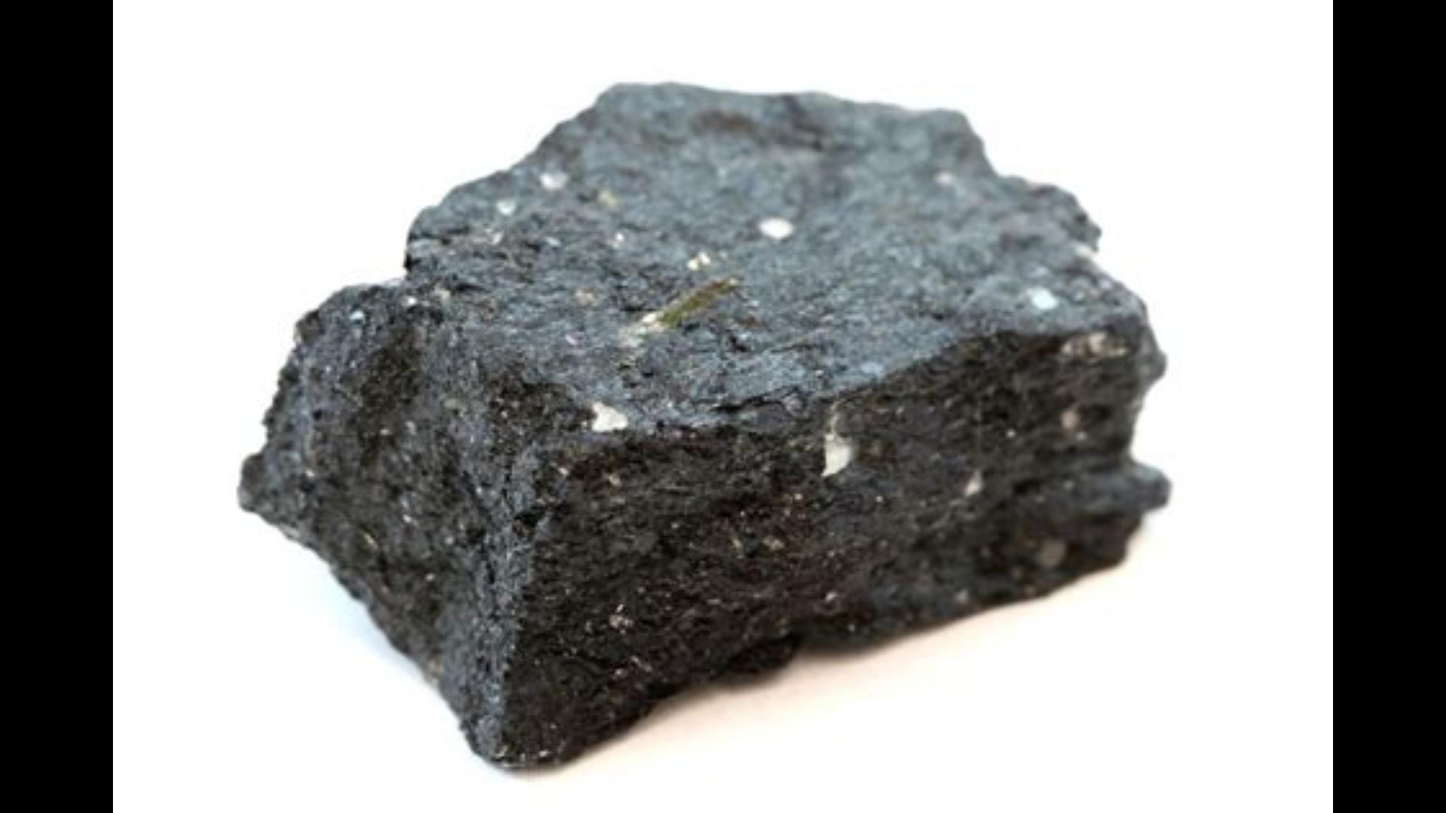rock: (242, 87, 1166, 764)
